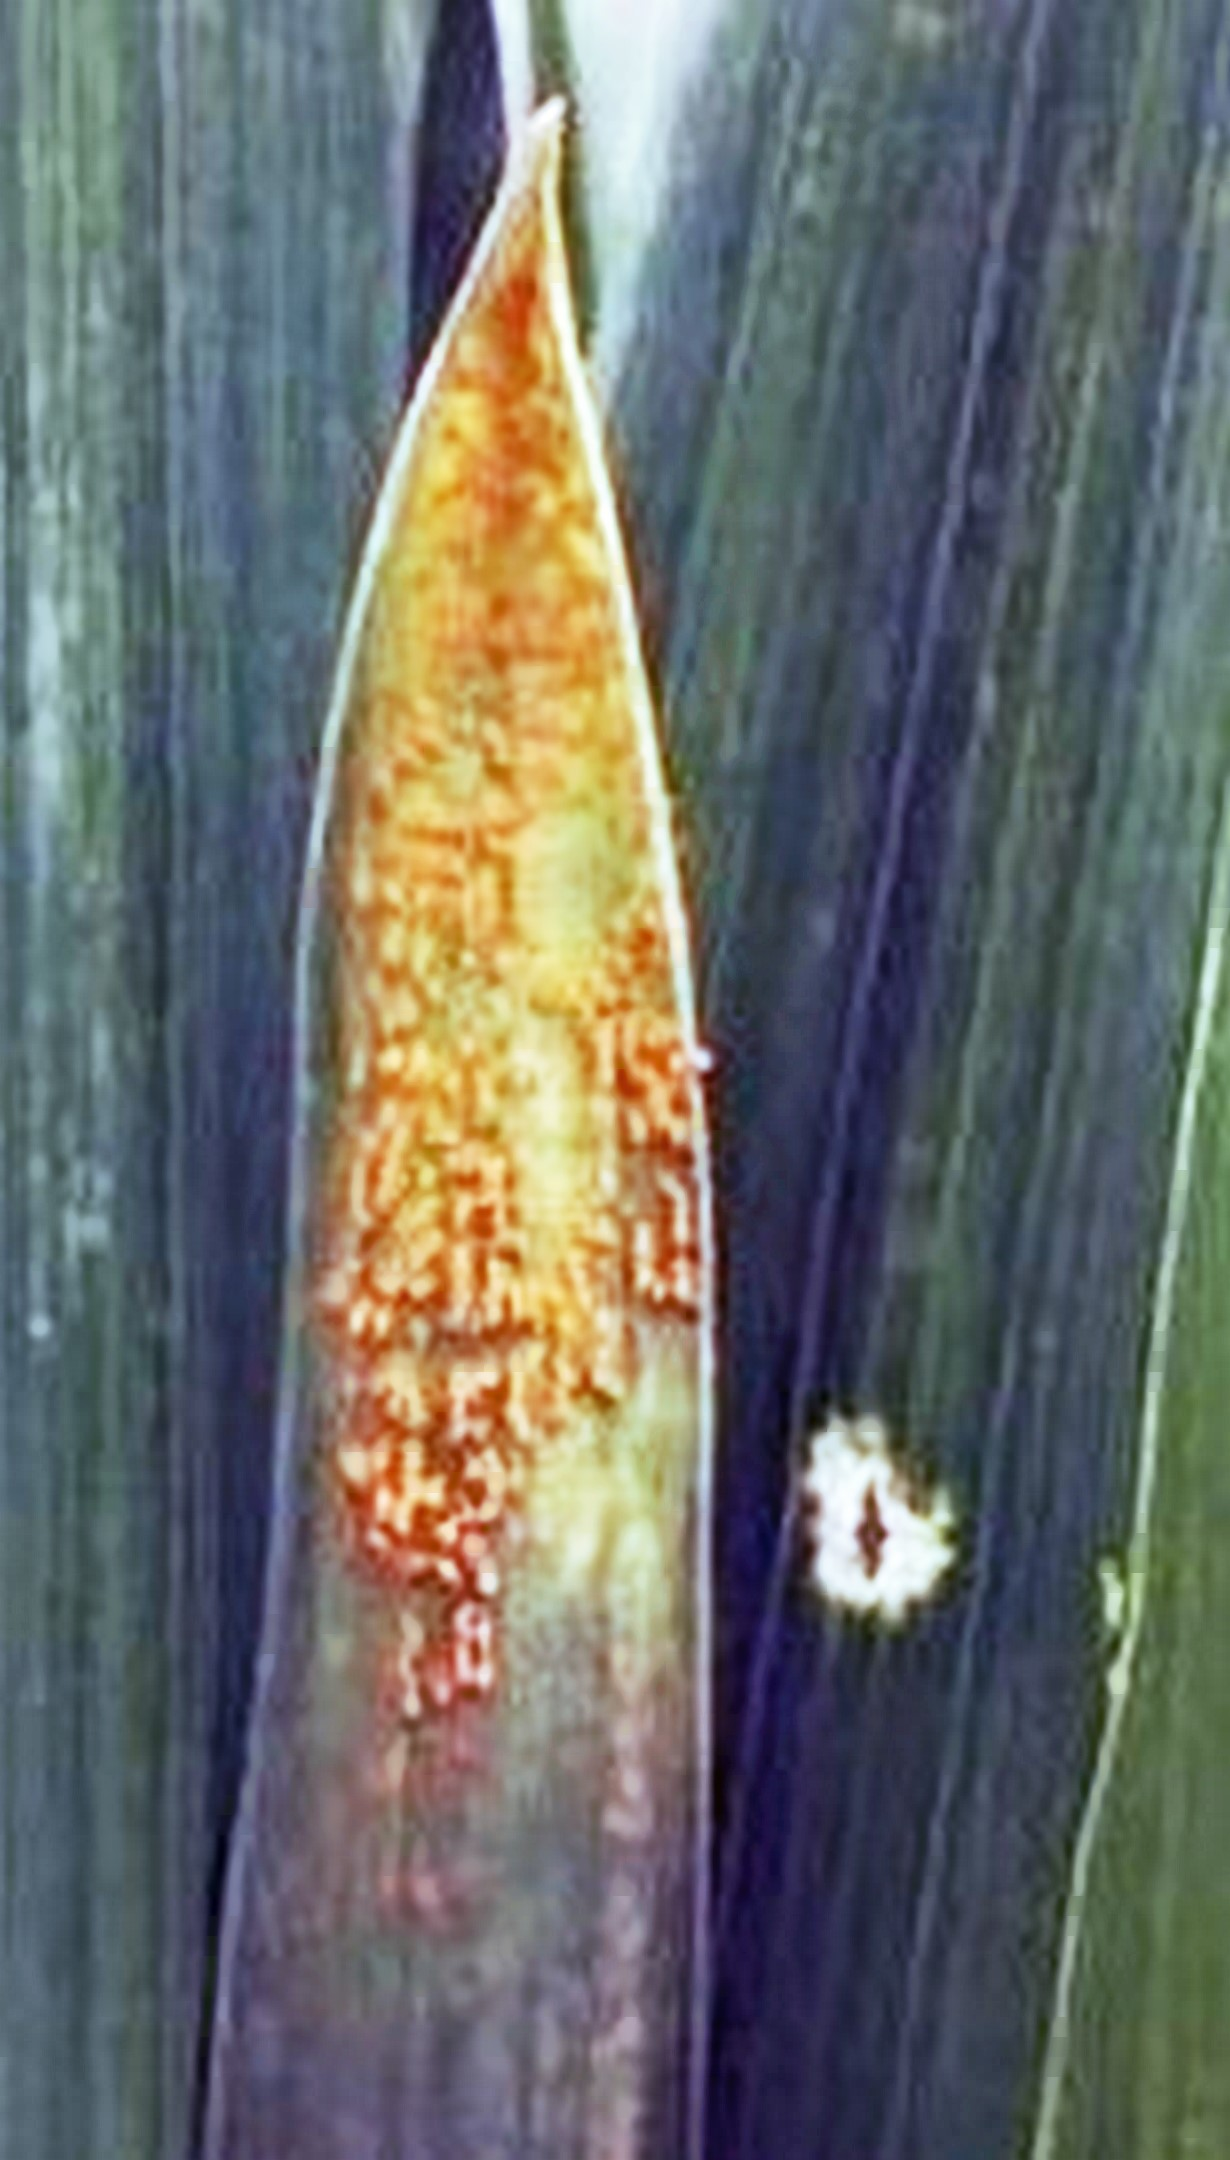Leaf Rust: (223, 332, 758, 1705)
